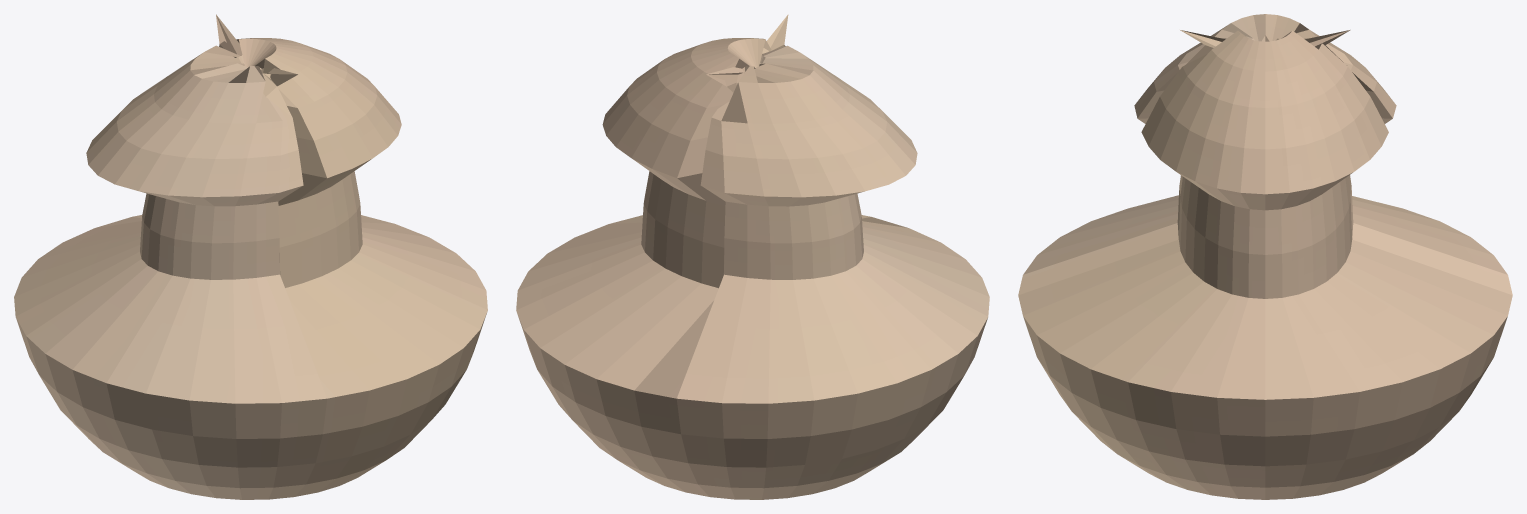
Rendered from DuckpinBowlingPin.glb.
The picture shows the model from 3 angles, left to right: view 1: azimuth 30°, elevation 25°; view 2: azimuth 150°, elevation 25°; view 3: azimuth 270°, elevation 25°; orthographic projection. The views are drawn at different scales.
Visible parts, largest first — view 1: Sphere; view 2: Sphere; view 3: Sphere.
Boxes of the visible parts, x1,y1,x2,y2 form: Sphere: (14,14,487,499); Sphere: (516,14,989,499); Sphere: (1018,14,1512,499).
Bounding box in the file's own units: 1.96 × 1.98 × 1.96.
1 material, 1 textured.
